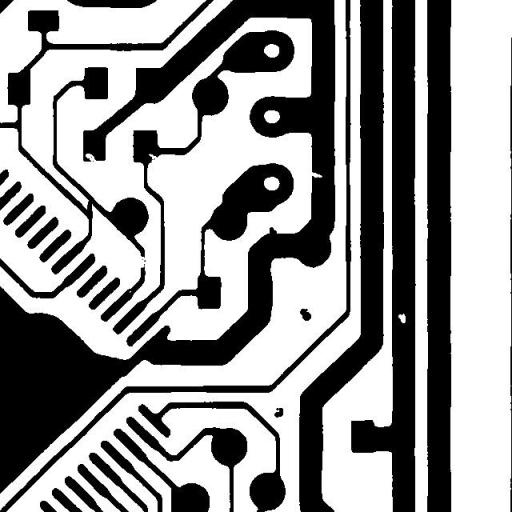copper: (292, 301, 318, 328), (266, 400, 290, 425)
mousebite: (300, 162, 330, 185), (141, 146, 165, 170), (78, 146, 103, 168)
open: (130, 248, 156, 275)
pin-hole: (390, 306, 413, 330)
short: (79, 193, 100, 226)
spur: (262, 219, 284, 244)
